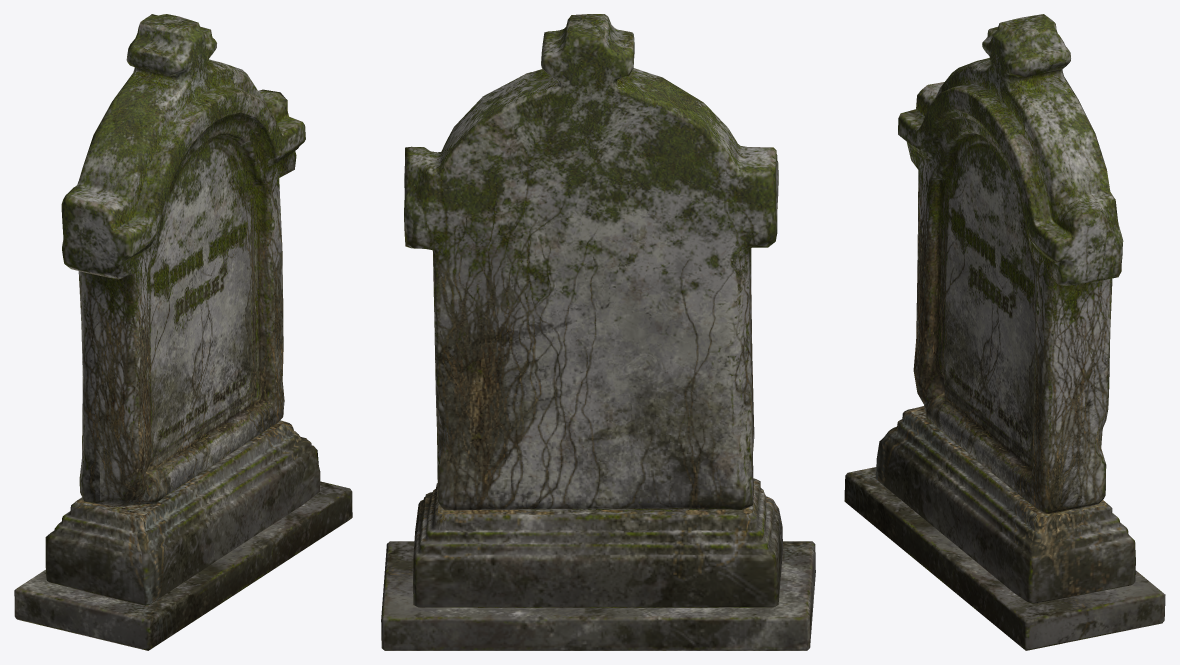
Rendered from gravestone2.glb.
3 views of the same model, side by side, from view 1: azimuth 30°, elevation 25°; view 2: azimuth 150°, elevation 25°; view 3: azimuth 270°, elevation 25° (orthographic). The views are drawn at different scales.
Visible parts, largest first — view 1: polySurface15_lambert5_0; view 2: polySurface15_lambert5_0; view 3: polySurface15_lambert5_0.
Boxes of the visible parts, left/top/right/bottom form: polySurface15_lambert5_0: left=14, top=14, right=352, bottom=650; polySurface15_lambert5_0: left=381, top=14, right=815, bottom=650; polySurface15_lambert5_0: left=844, top=14, right=1165, bottom=650.
Bounding box in the file's own units: 0.0338 × 0.049 × 0.0262.
Materials: 1 (1 with a texture image).
